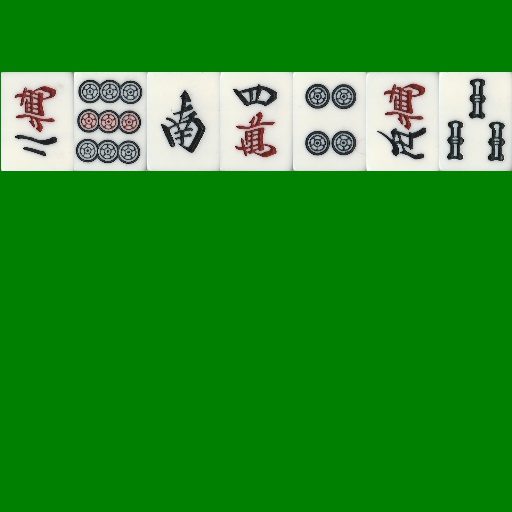2m: (1, 72, 74, 171)
3s: (439, 72, 512, 171)
4m: (220, 72, 293, 171)
4p: (293, 72, 366, 171)
5m: (366, 72, 439, 171)
9p: (74, 72, 147, 171)
south: (147, 72, 220, 171)
